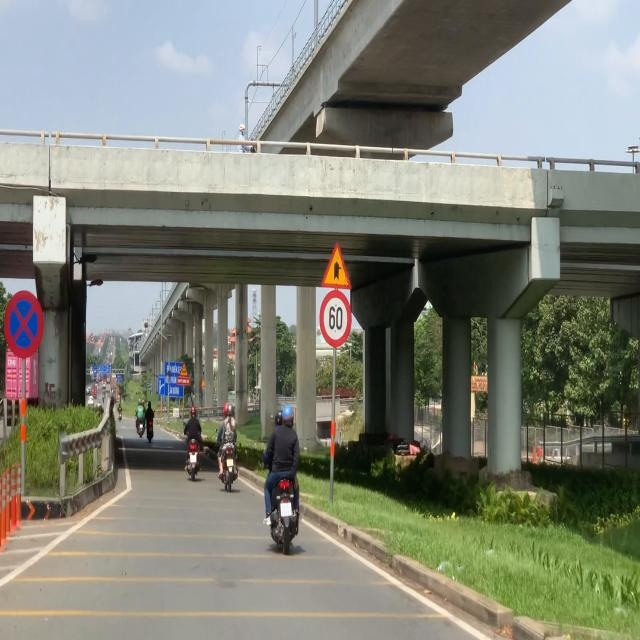bien_nguy_hiem: (1, 288, 46, 363), (318, 289, 354, 347), (318, 238, 350, 292), (180, 363, 188, 376)
